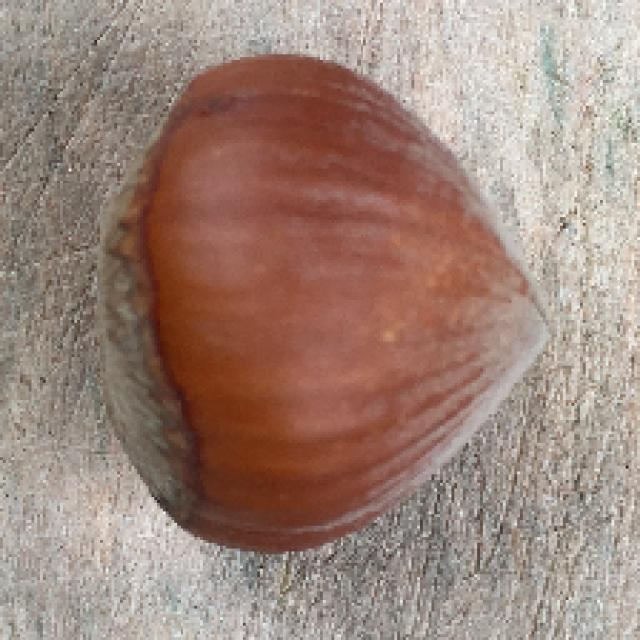qualityHazelnut: (90, 51, 550, 559)
